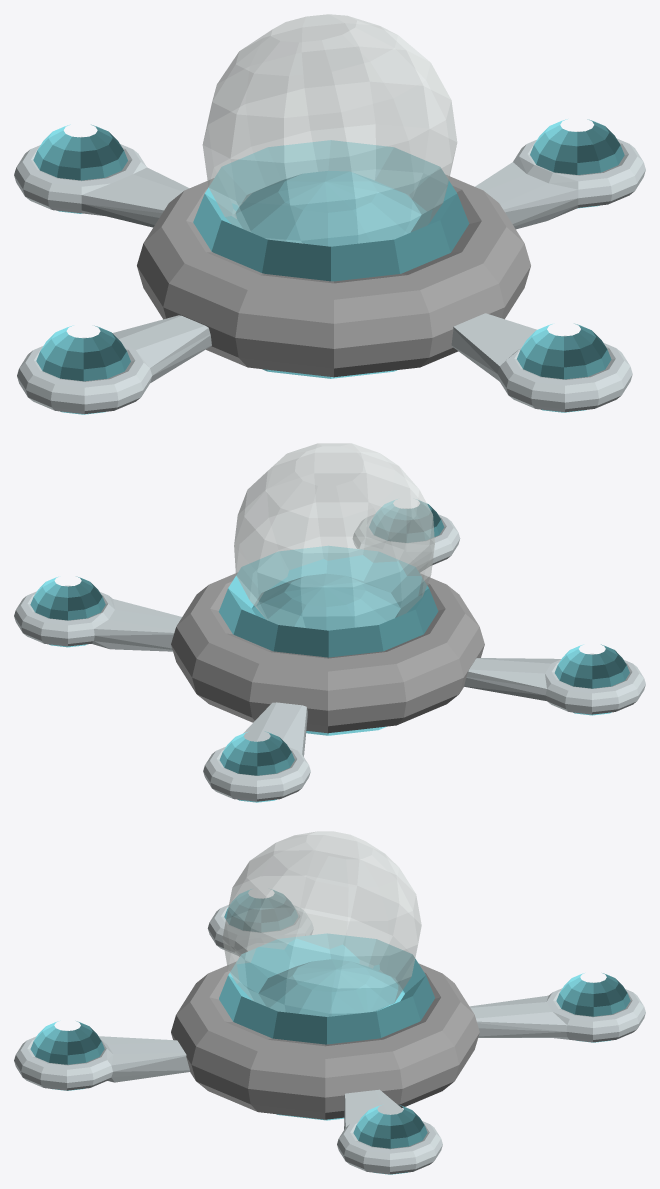
Rendered from Drone.glb.
3 renders of one model, top to bottom at view 1: azimuth 30°, elevation 25°; view 2: azimuth 150°, elevation 25°; view 3: azimuth 270°, elevation 25°, orthographic. The views are drawn at different scales.
Parts seen in each view (by area): view 1: Node; view 2: Node; view 3: Node.
Boxes of the visible parts, box(x1,y1,x2,y2) form: Node: box(14, 14, 645, 414); Node: box(14, 443, 645, 802); Node: box(14, 831, 645, 1174).
Bounding box in the file's own units: 1.36 × 0.5986 × 1.37.
